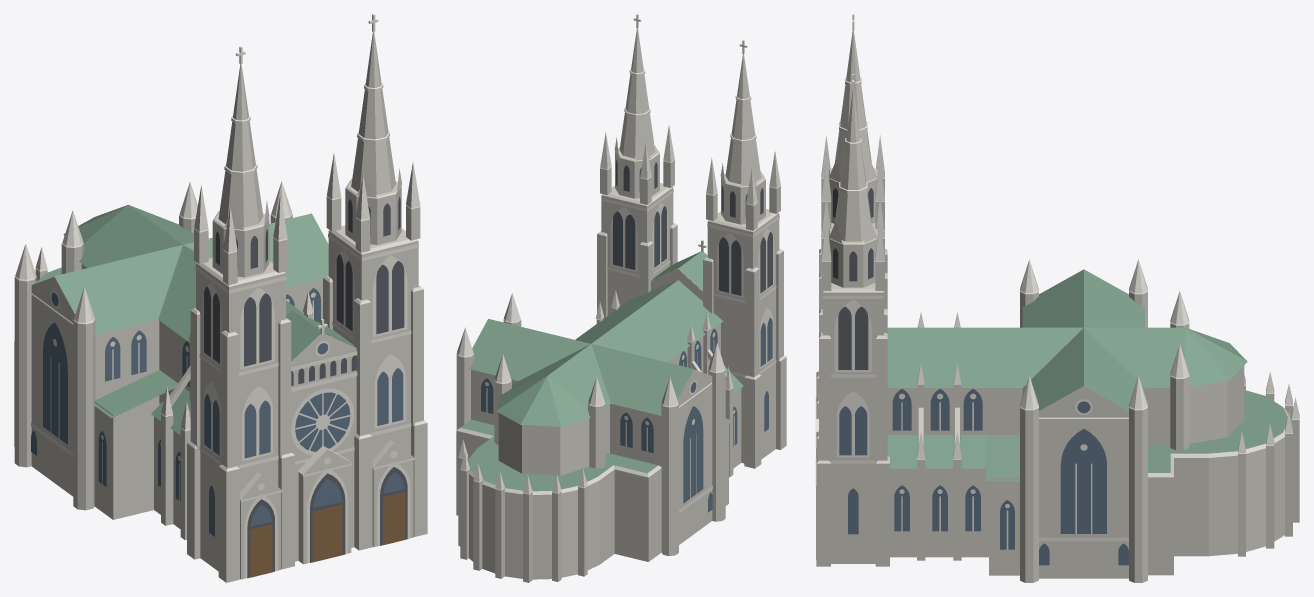
Rendered from den-cathedral-basilica.glb.
3 views of the same model, side by side, from view 1: azimuth 30°, elevation 25°; view 2: azimuth 150°, elevation 25°; view 3: azimuth 270°, elevation 25° (orthographic). The views are drawn at different scales.
Parts seen in each view (by area): view 1: Cathedral Basilica of the Immaculate Conception; view 2: Cathedral Basilica of the Immaculate Conception; view 3: Cathedral Basilica of the Immaculate Conception.
Part boxes in pixels (x1,y1,x2,y2): Cathedral Basilica of the Immaculate Conception: [14, 14, 427, 582]; Cathedral Basilica of the Immaculate Conception: [456, 14, 786, 582]; Cathedral Basilica of the Immaculate Conception: [815, 14, 1299, 582].
Bounding box in the file's own units: 35.51 × 63.6 × 58.6.
